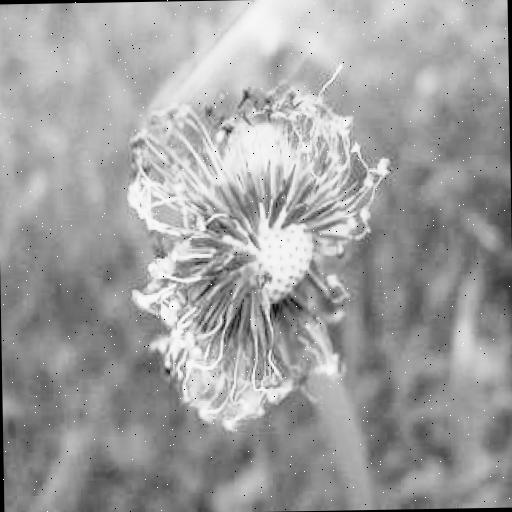dandelion: (118, 57, 388, 424)
